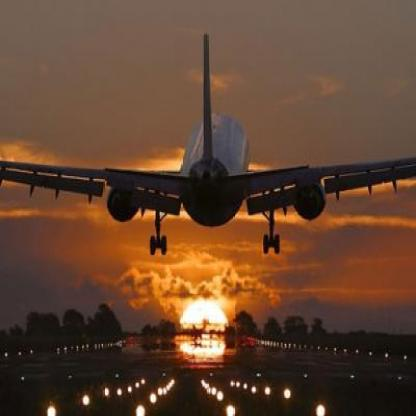other: (162, 265, 248, 328)
